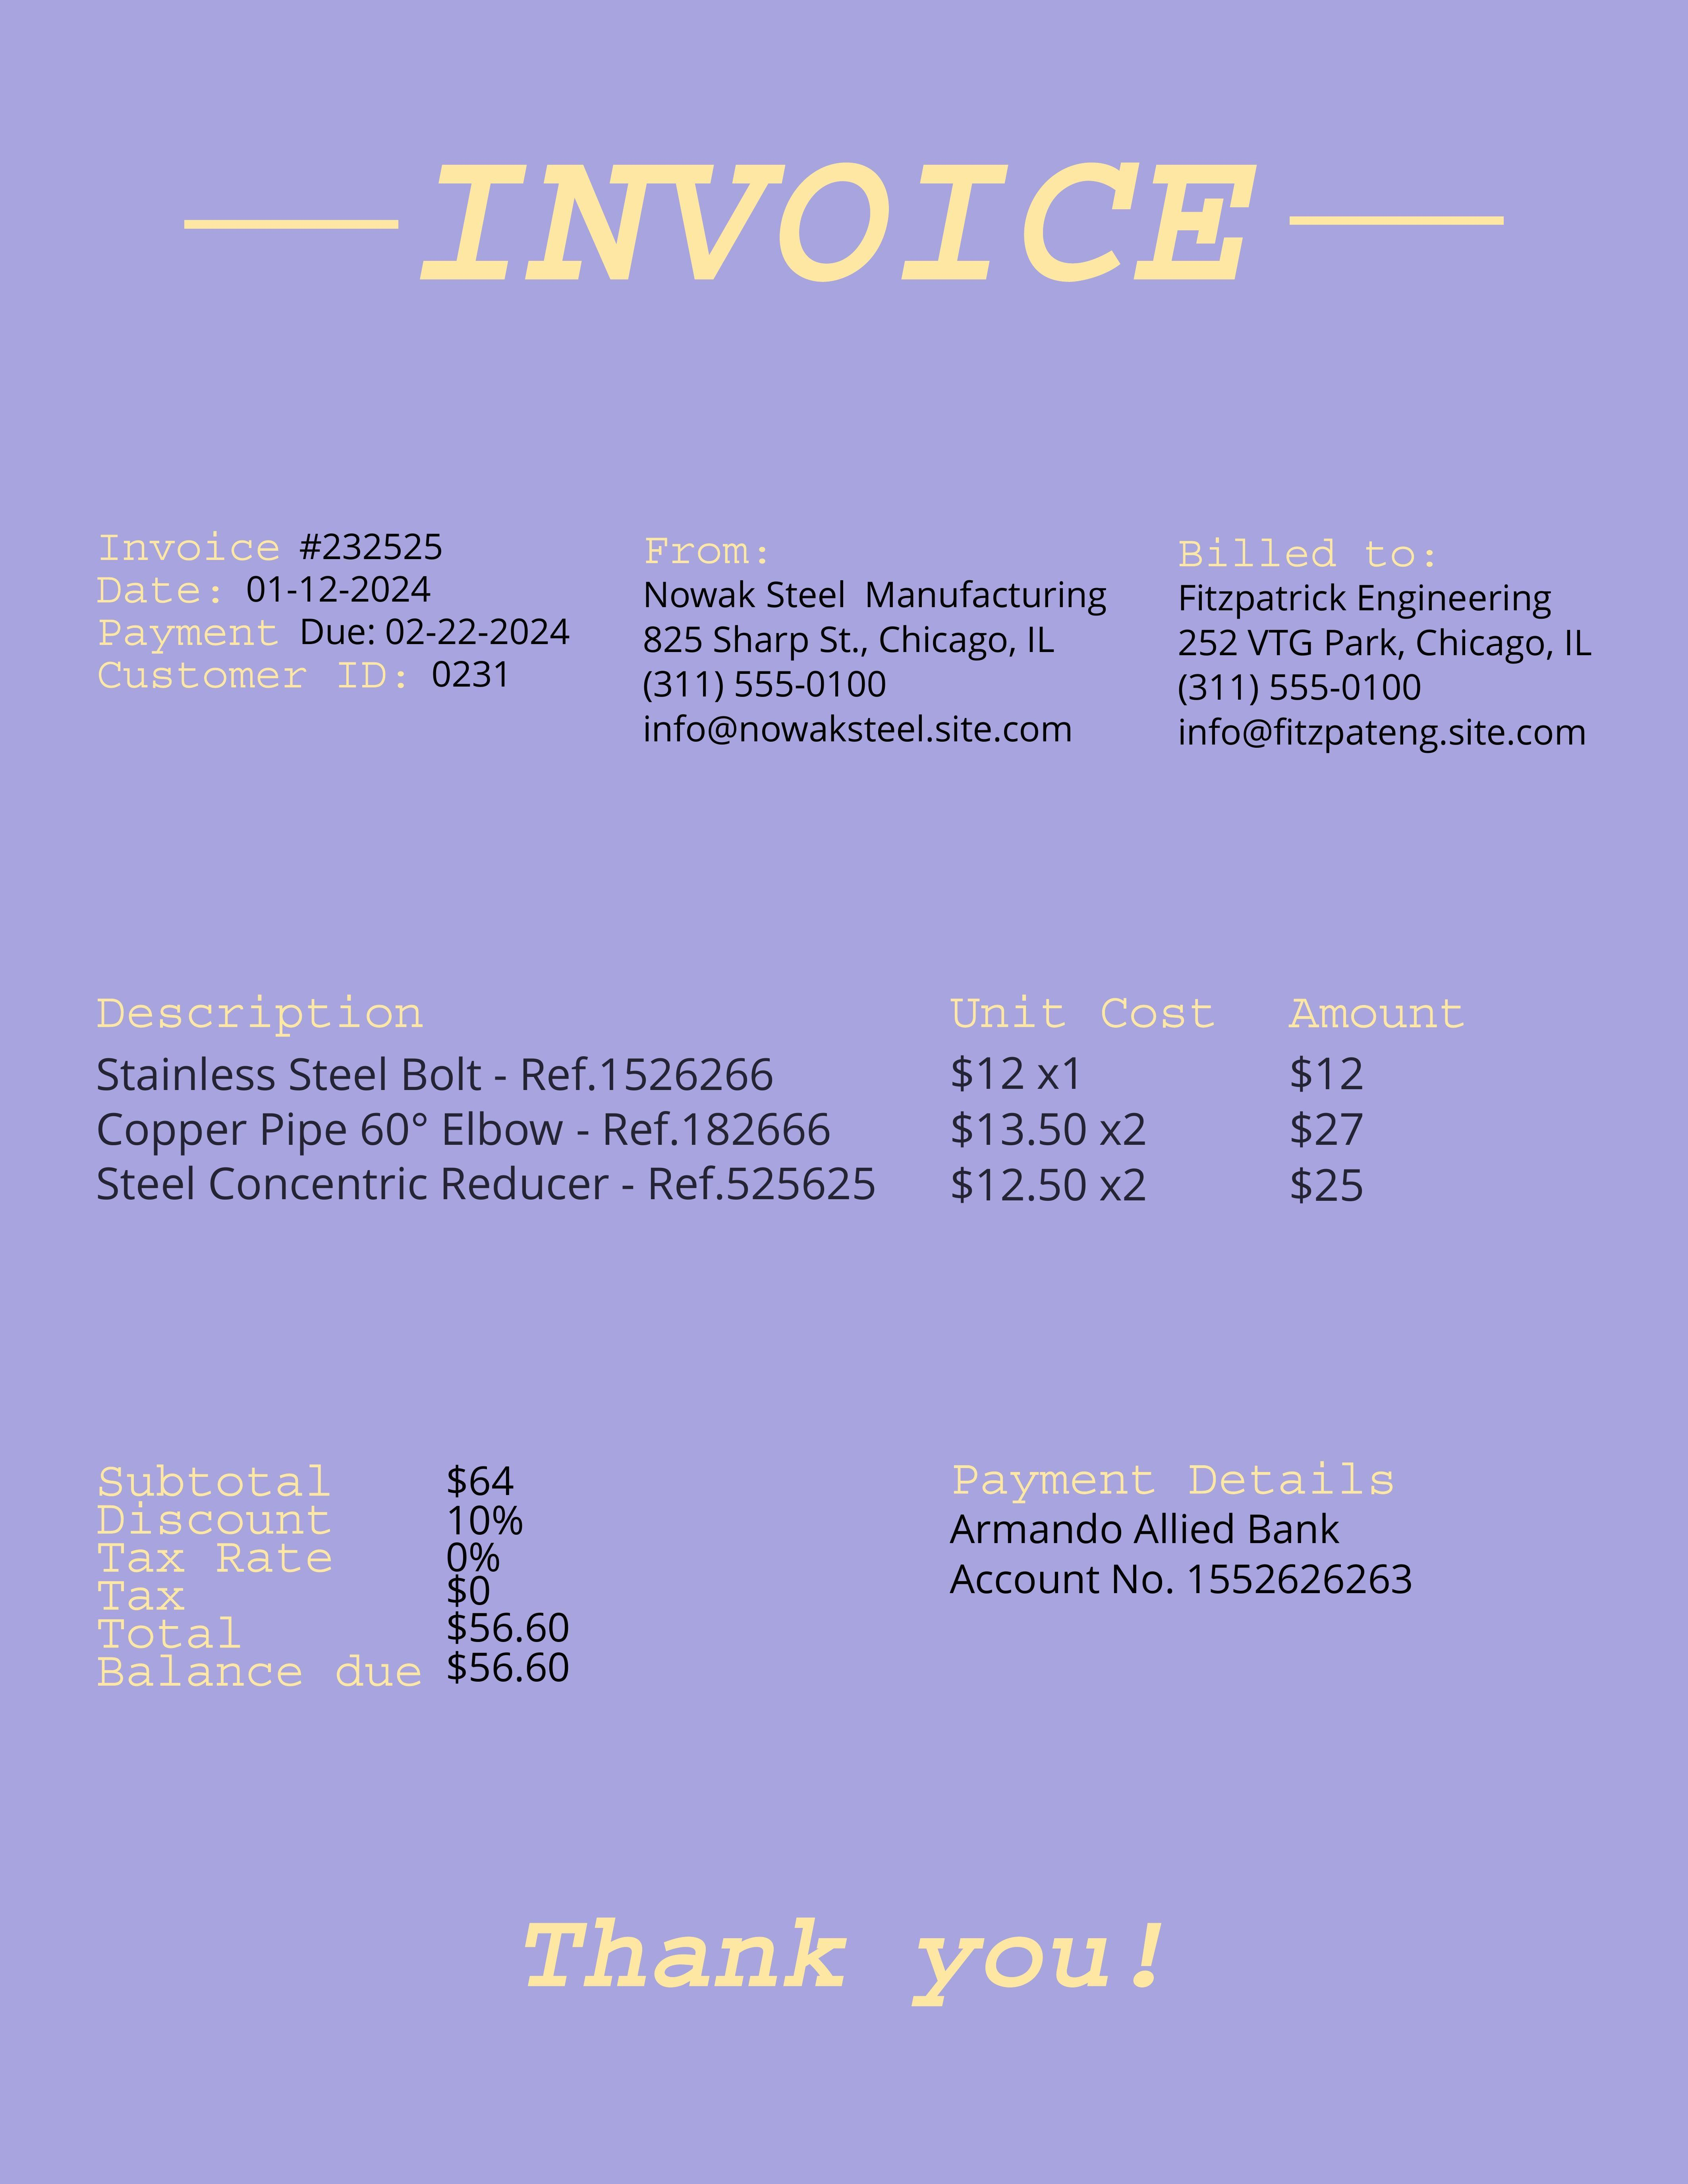ROI: (78, 982, 1466, 1228), (90, 1452, 603, 1714), (626, 528, 1121, 757), (1177, 530, 1606, 773), (92, 514, 578, 702), (929, 1454, 1481, 1615)
